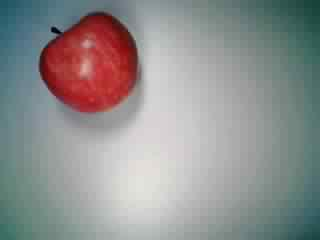apple: (38, 11, 141, 115)
